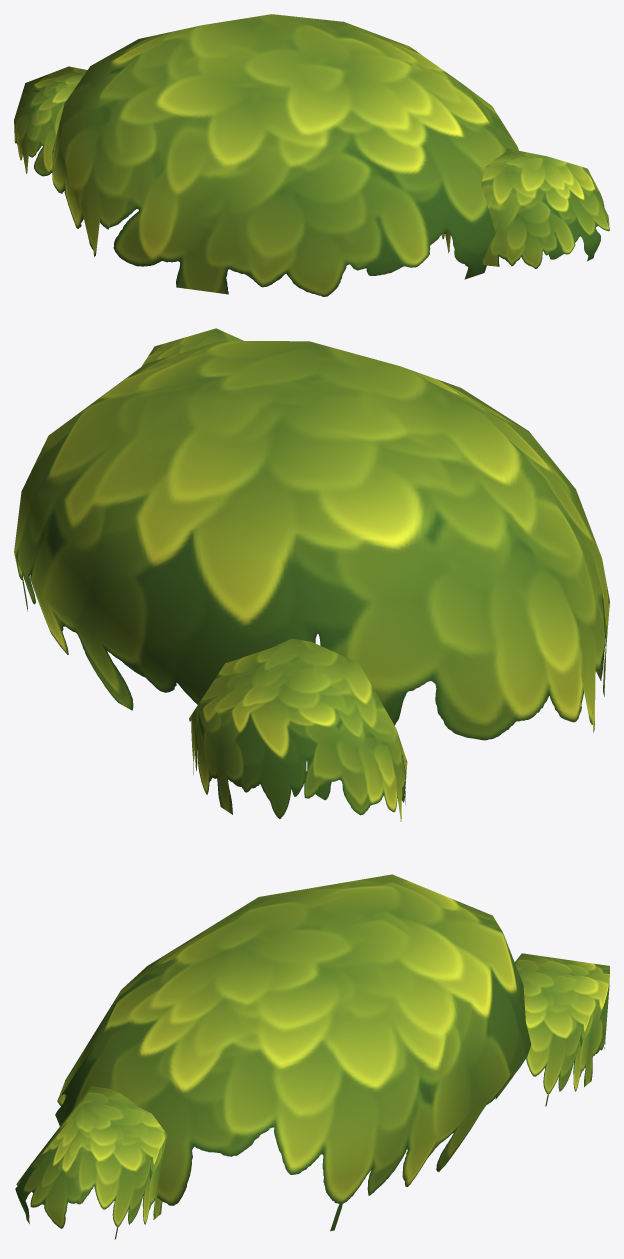
The model's file is SM_bush_01.fbx.
3 renders of one model, top to bottom at view 1: azimuth 30°, elevation 25°; view 2: azimuth 150°, elevation 25°; view 3: azimuth 270°, elevation 25°, orthographic. The views are drawn at different scales.
Parts seen in each view (by area): view 1: SM_bush_01; view 2: SM_bush_01; view 3: SM_bush_01.
Part boxes in pixels (x1,y1,x2,y2): SM_bush_01: (14, 14, 609, 296); SM_bush_01: (14, 328, 609, 821); SM_bush_01: (15, 874, 609, 1239).
Size of the model in its own units: 16.66 by 7.28 by 18.18.
